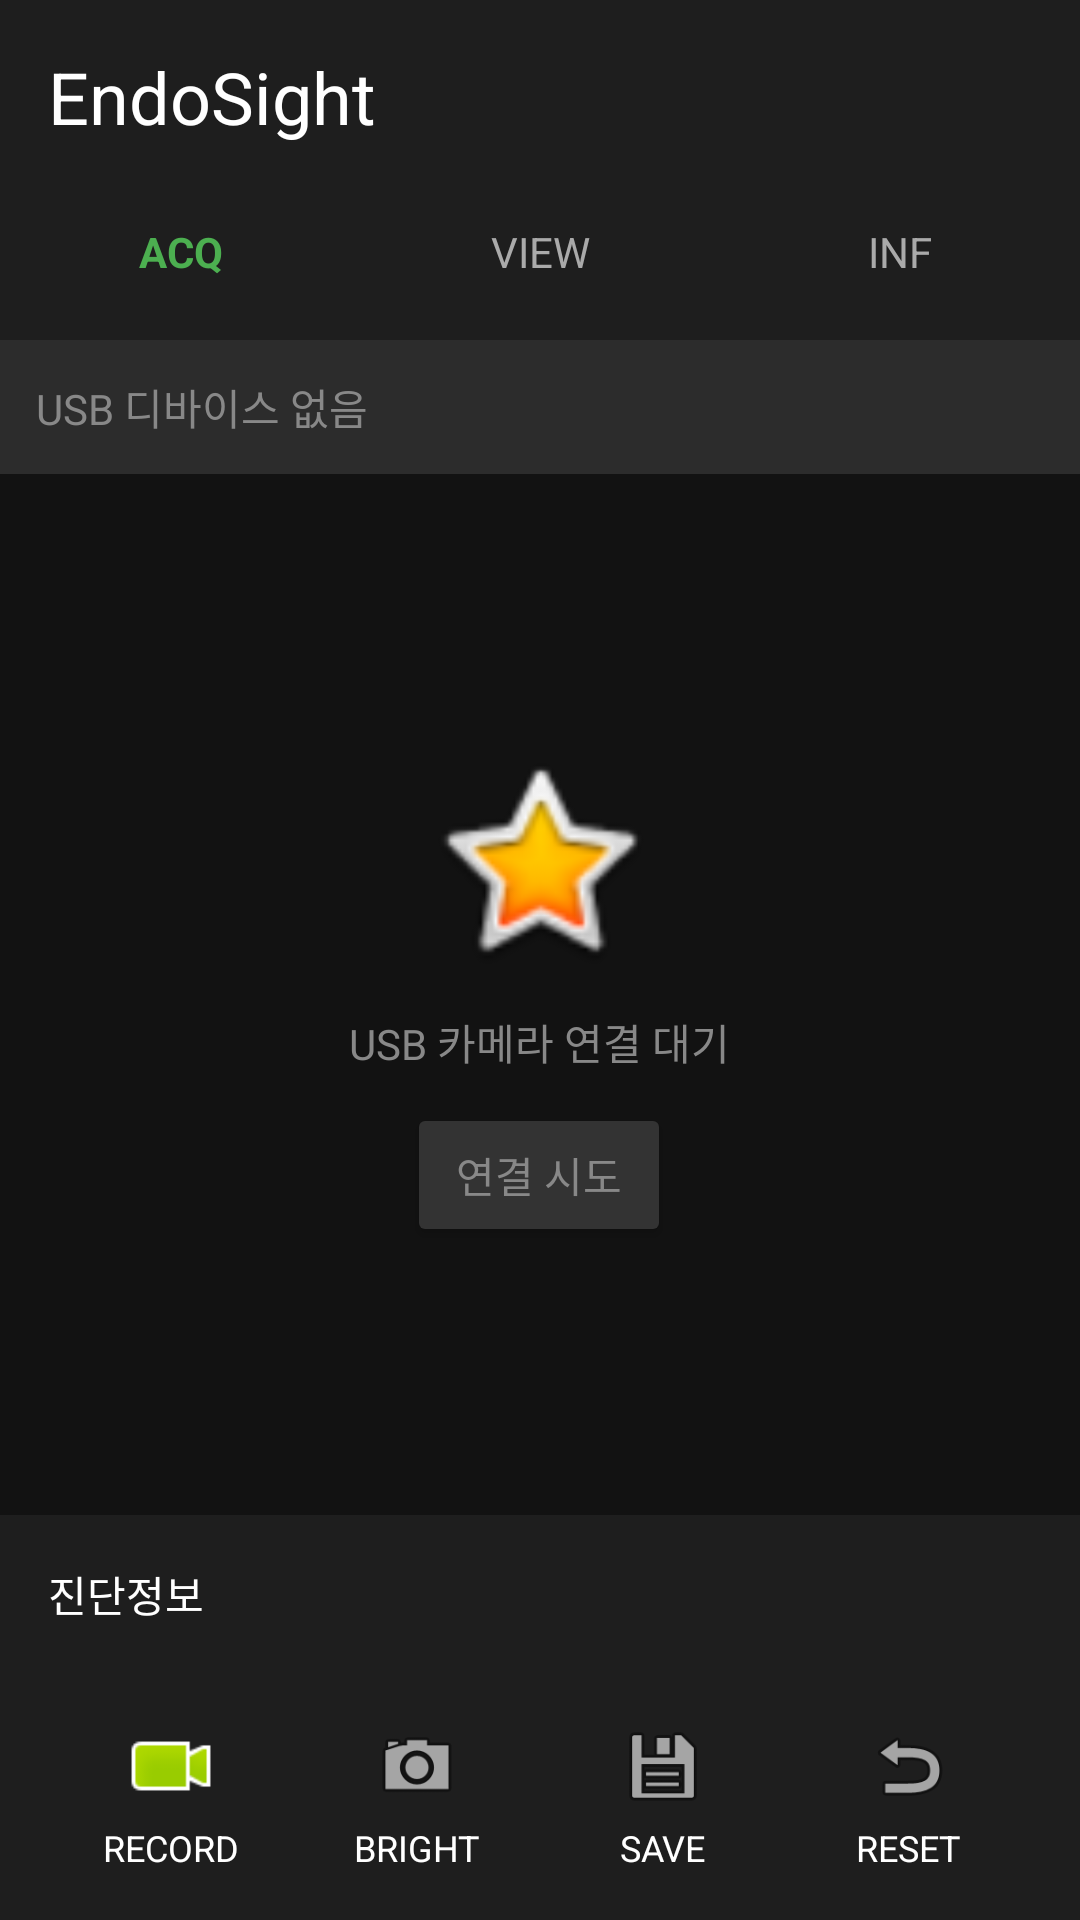

Icon bounding boxes for this 1080*1920 phone screenshot, format {"left": x1, "top": y1, "right": x2, "bottom": y2}:
camera: {"left": 385, "top": 1740, "right": 449, "bottom": 1789}
presence video online: {"left": 131, "top": 1741, "right": 211, "bottom": 1791}
revert: {"left": 881, "top": 1740, "right": 940, "bottom": 1793}
star on: {"left": 445, "top": 769, "right": 638, "bottom": 952}
